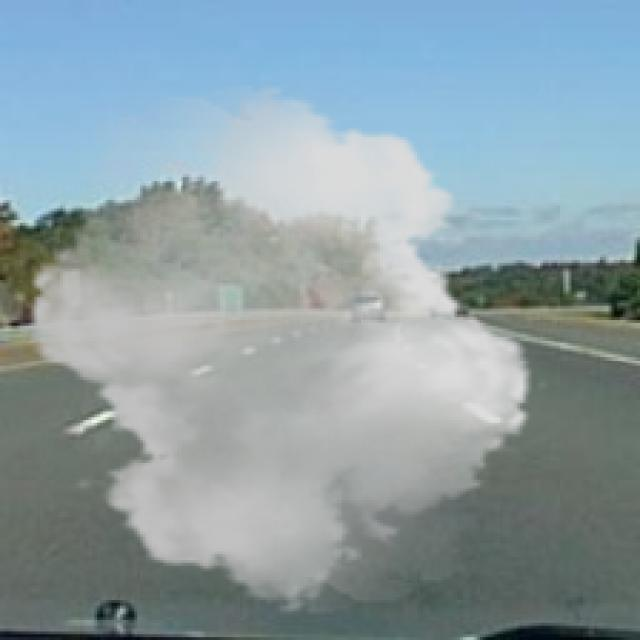smoke: (9, 86, 552, 614)
